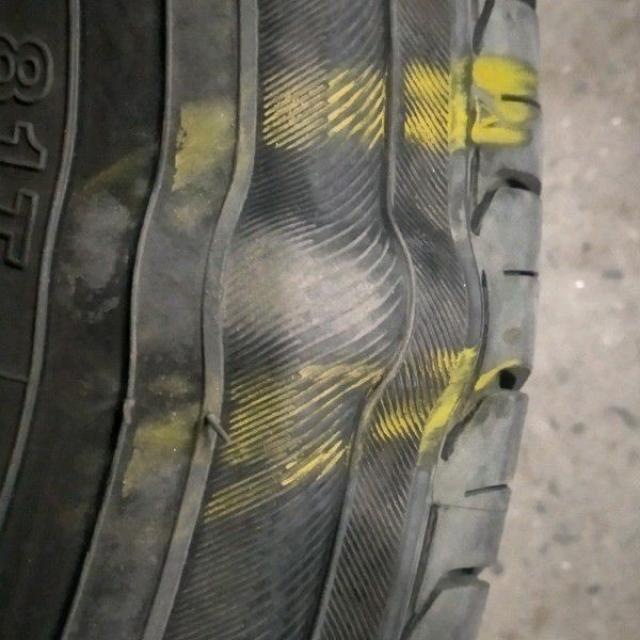Bulge: (56, 169, 512, 429)
